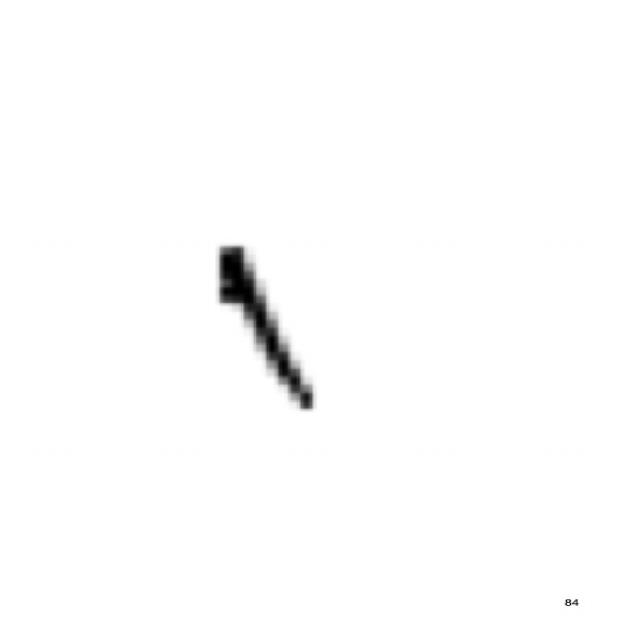1 -one-: (194, 234, 323, 421)
